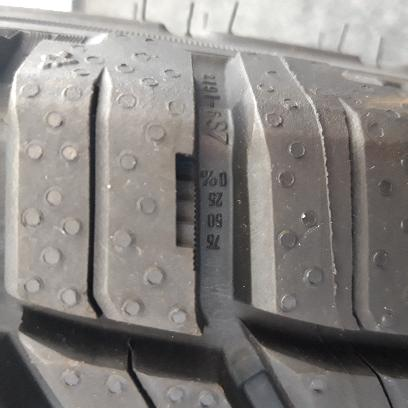temoin:100: (173, 151, 201, 274)
